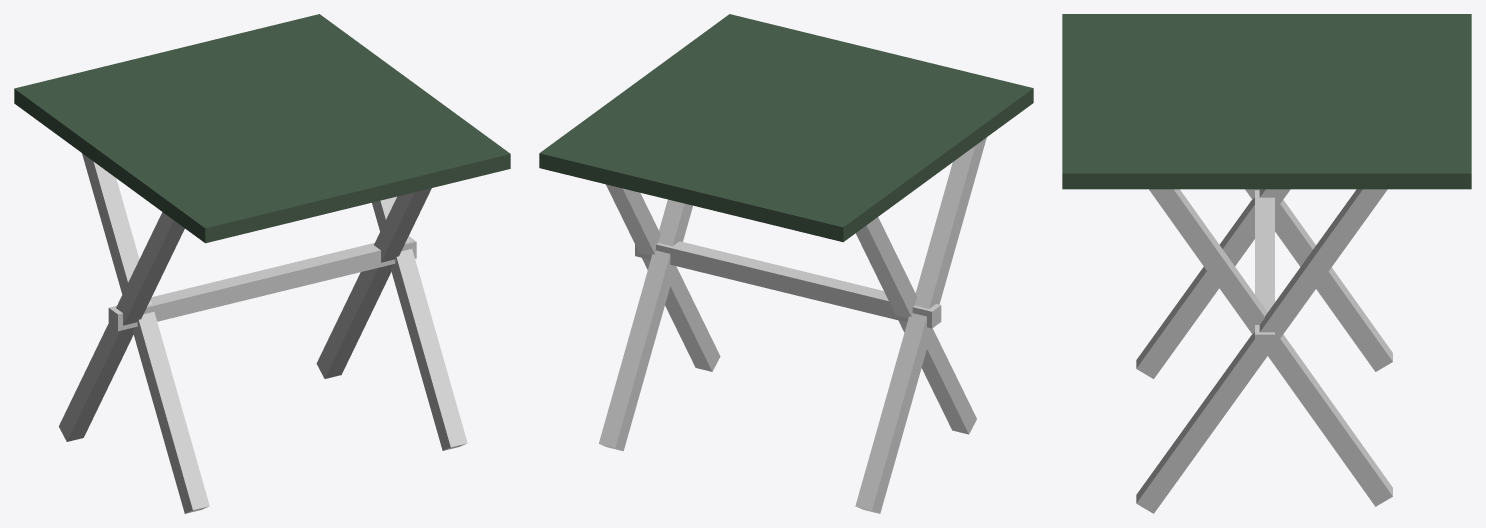
Rendered from Table.glb.
3 views of the same model, side by side, from view 1: azimuth 30°, elevation 25°; view 2: azimuth 150°, elevation 25°; view 3: azimuth 270°, elevation 25° (orthographic). The views are drawn at different scales.
Parts seen in each view (by area): view 1: Cube_152; view 2: Cube_152; view 3: Cube_152.
Boxes of the visible parts, <box> form: Cube_152: <box>14,14,510,513</box>; Cube_152: <box>539,14,1033,513</box>; Cube_152: <box>1062,14,1471,513</box>.
Bounding box in the file's own units: 0.973 × 0.9821 × 1.05.
Materials: 1 (1 with a texture image).
